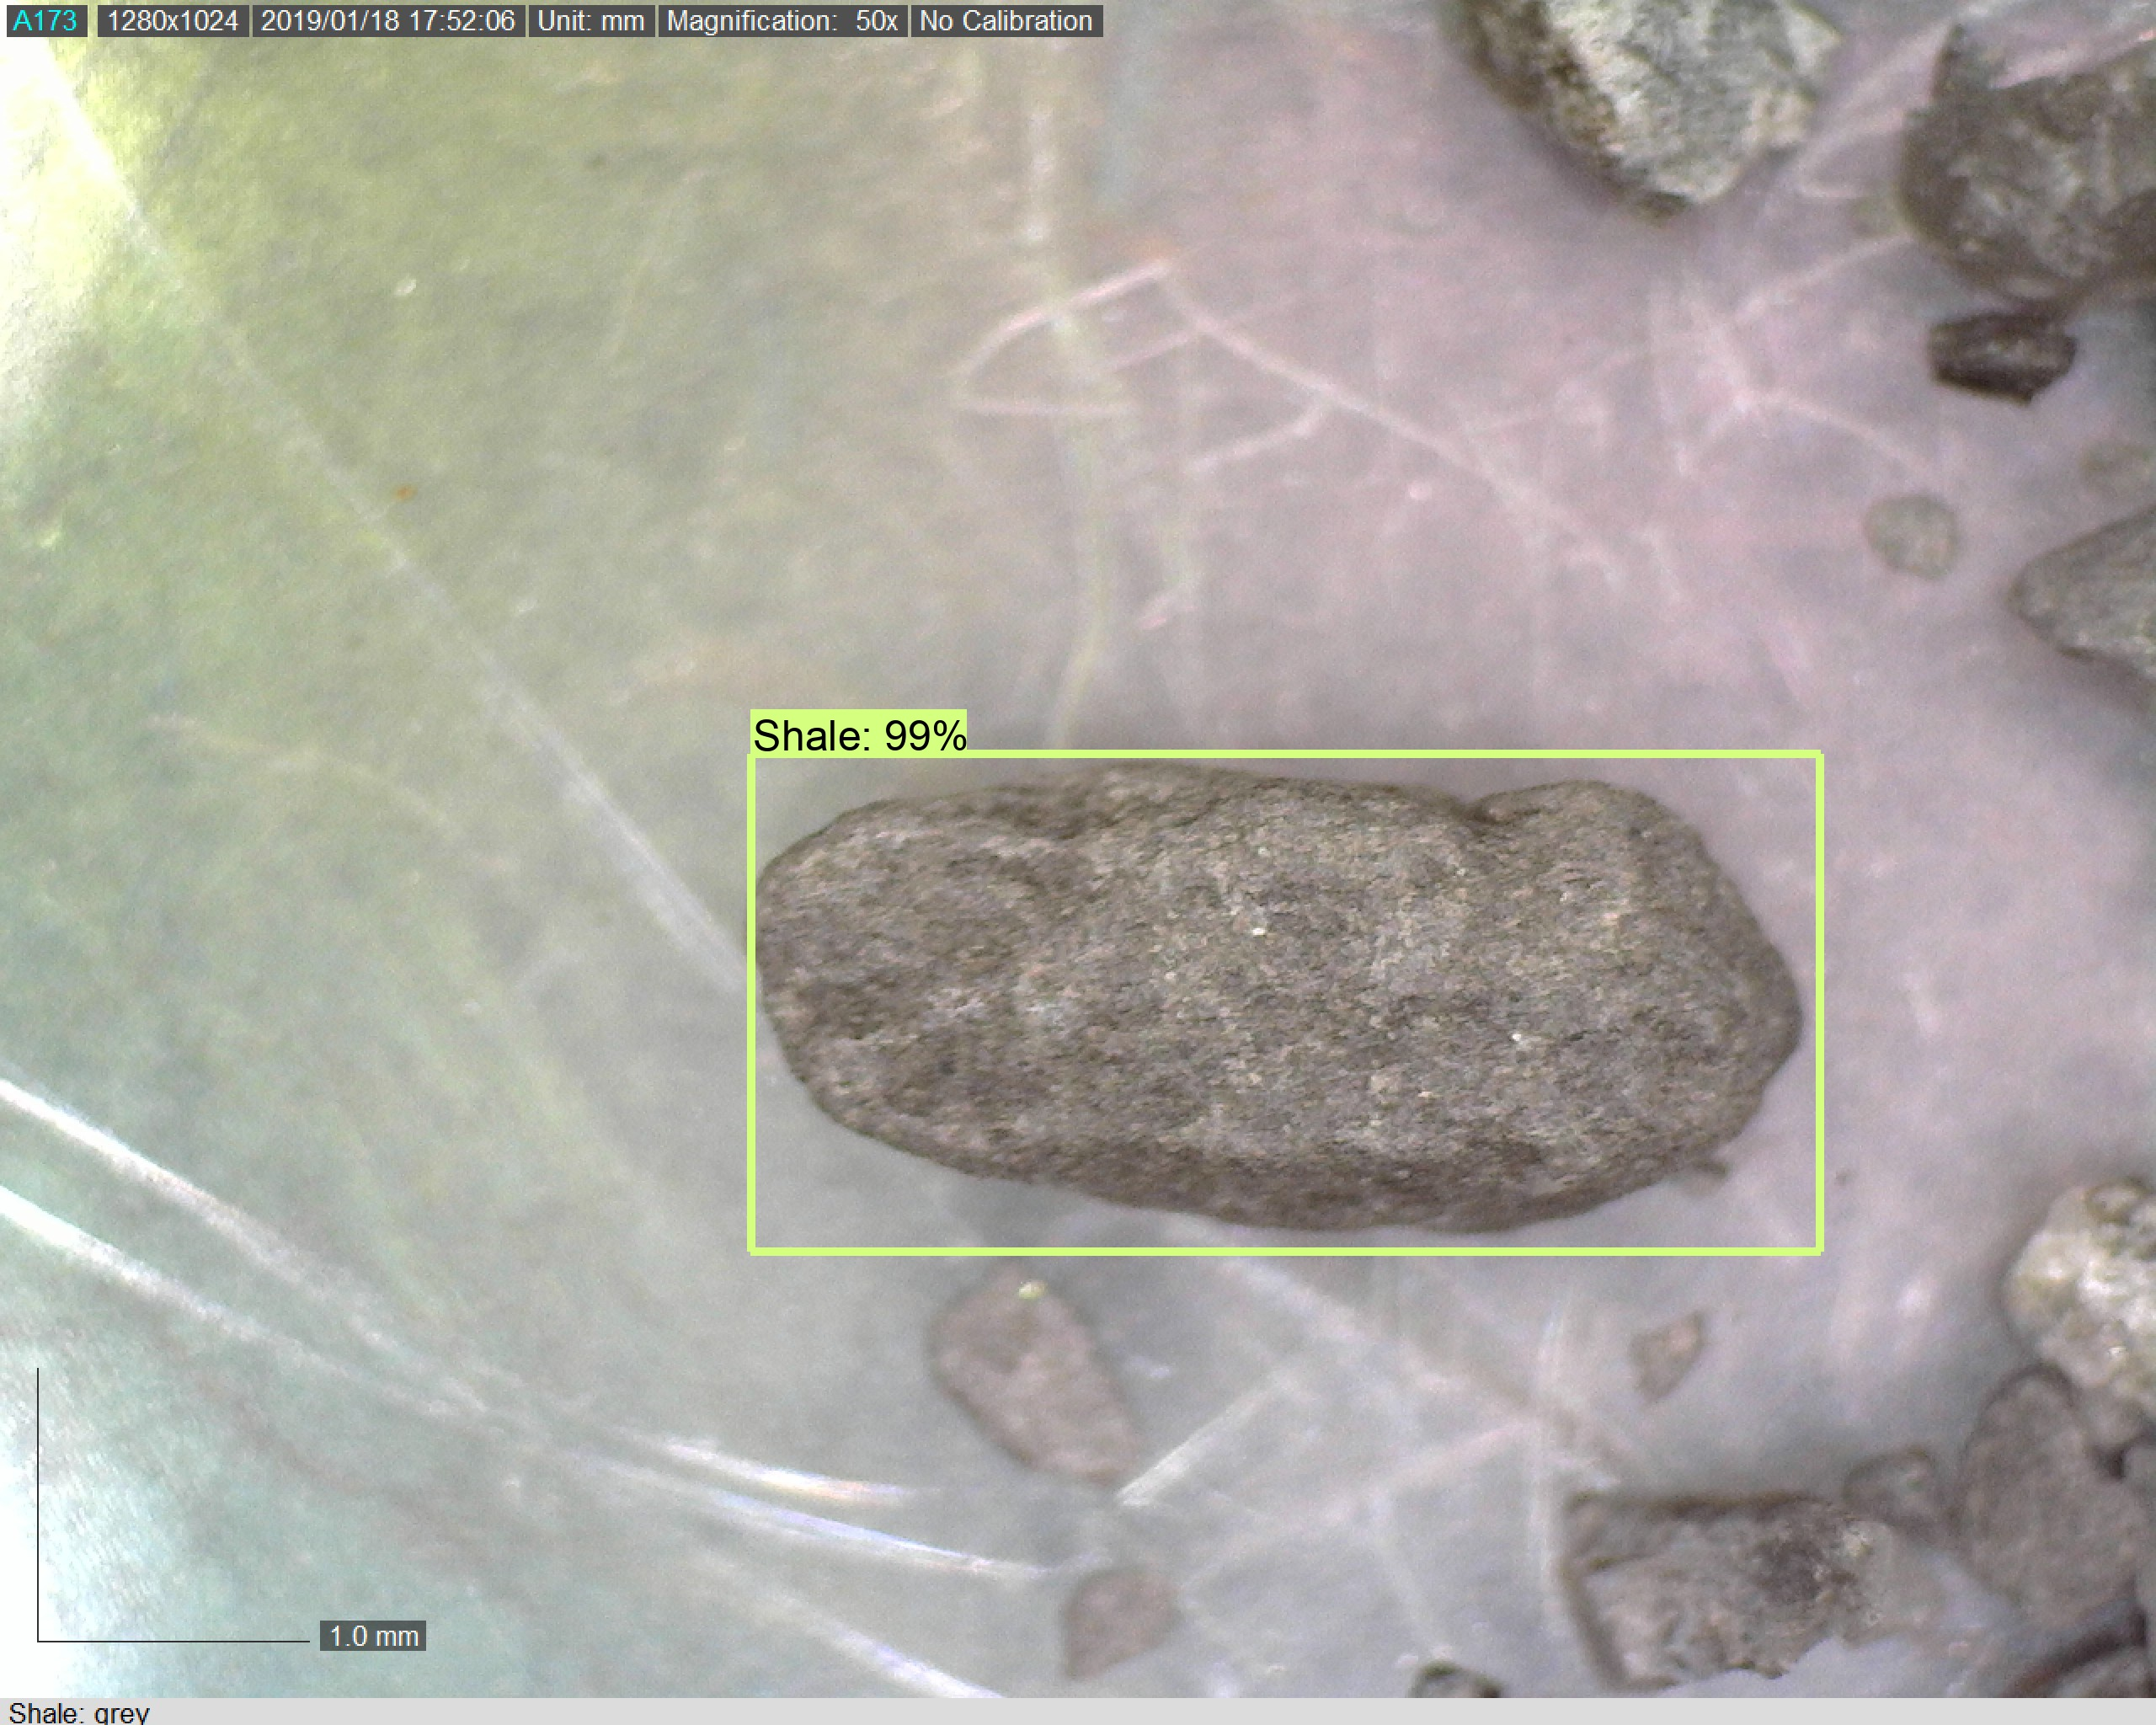Shale: (727, 760, 1811, 1248)
